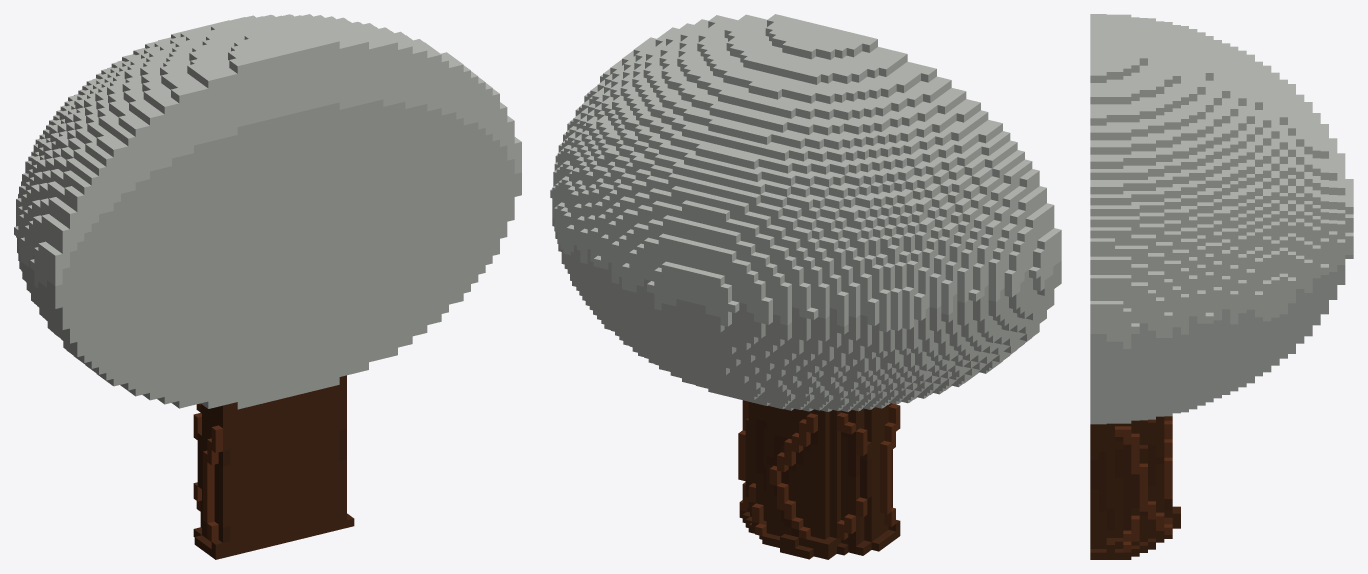
The model's file is TreeTile-2.obj.
3 renders of one model, left to right at view 1: azimuth 30°, elevation 25°; view 2: azimuth 150°, elevation 25°; view 3: azimuth 270°, elevation 25°, orthographic. The views are drawn at different scales.
Bounding box in the file's own units: 6.4 × 6.4 × 3.2.
1 material, 1 textured.
